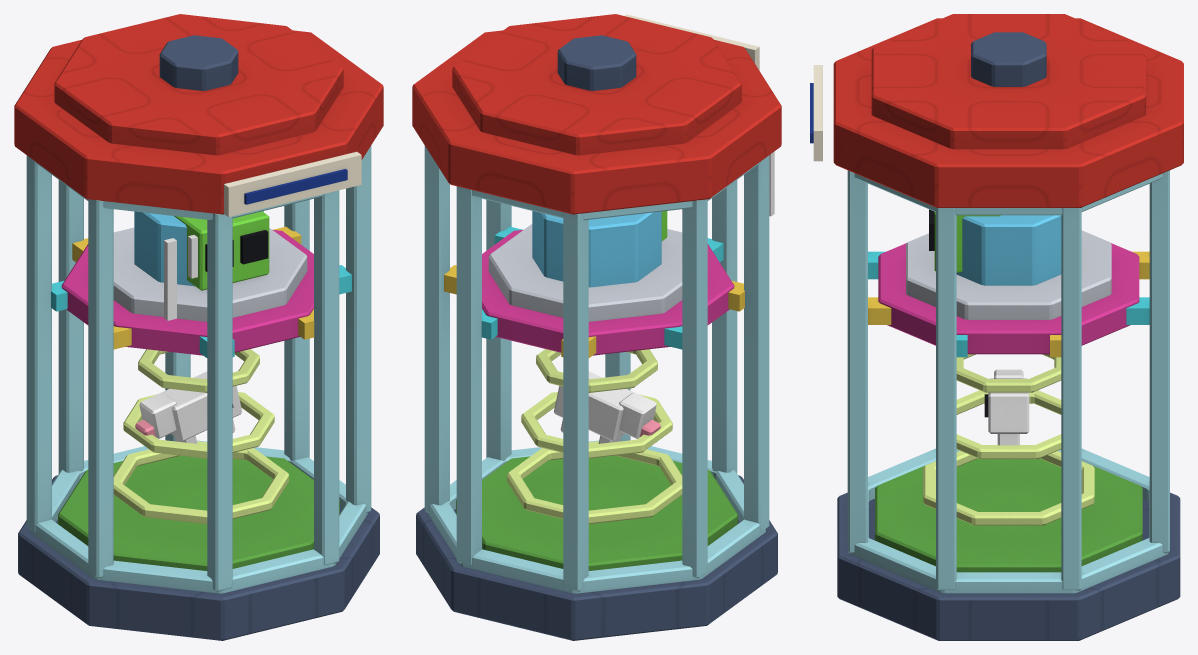
File: UfoJar.fbx
The picture shows the model from 3 angles, left to right: view 1: azimuth 30°, elevation 25°; view 2: azimuth 150°, elevation 25°; view 3: azimuth 270°, elevation 25°; orthographic projection.
Visible parts, largest first — view 1: Art_UfoJar; view 2: Art_UfoJar; view 3: Art_UfoJar.
Boxes of the visible parts, left/top/right/bottom form: Art_UfoJar: left=14, top=14, right=383, bottom=640; Art_UfoJar: left=412, top=14, right=781, bottom=640; Art_UfoJar: left=810, top=14, right=1183, bottom=640.
Bounding box in the file's own units: 1.88 × 3.1 × 2.01.
